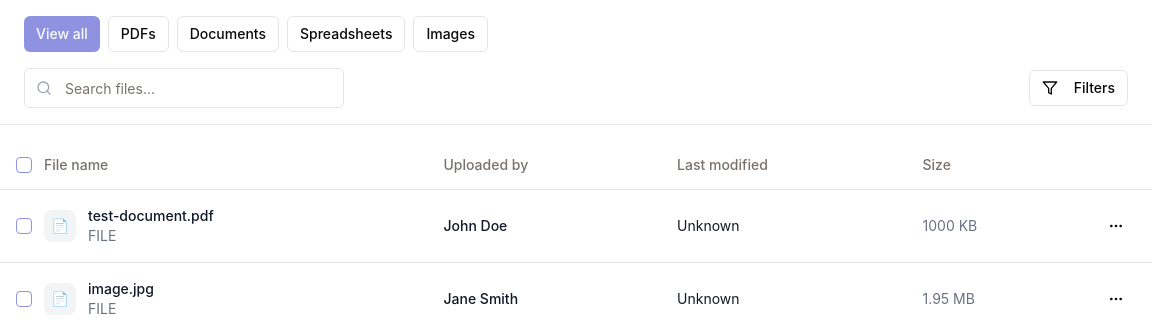
it: FileTable › handles select all functionality
This screenshot has width=1152, height=332.
Click the checkbox next to "File name": click(24, 165) [16,157,32,173]
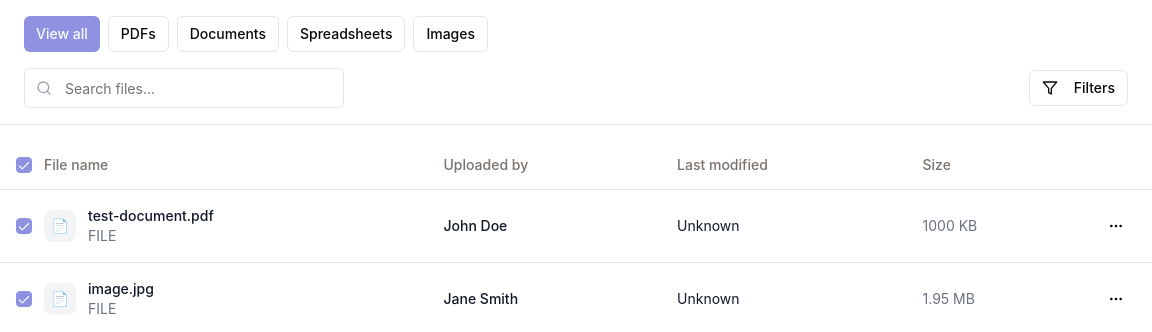
expect the checkbox next to "test-document.pdf" is checked: met, box [16,218,32,234]
expect the checkbox next to "image.jpg" is checked: met, box [16,290,32,306]
